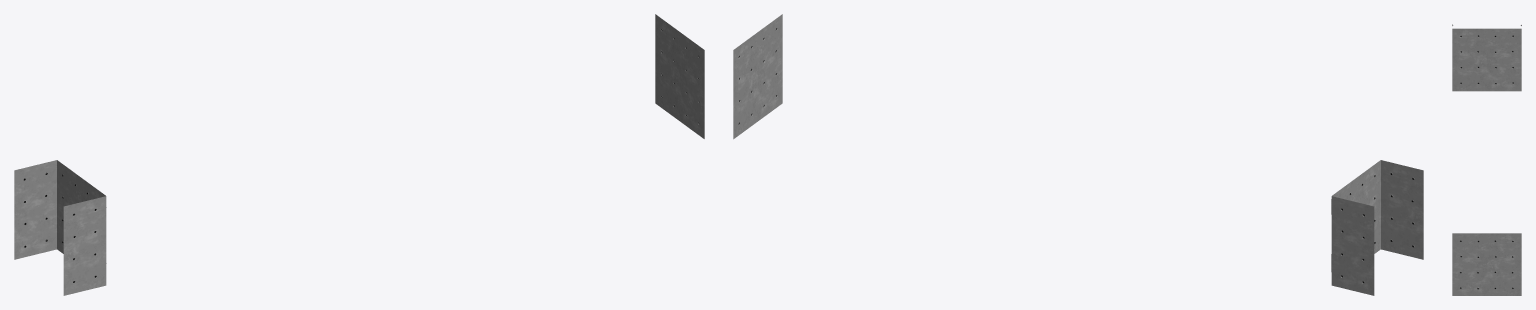
File: corridor_low.gltf
The picture shows the model from 3 angles, left to right: view 1: azimuth 30°, elevation 25°; view 2: azimuth 150°, elevation 25°; view 3: azimuth 270°, elevation 25°; orthographic projection. The views are drawn at different scales.
Parts seen in each view (by area): view 1: Cube, Cube.007; view 2: Cube, Cube.007; view 3: Cube, Cube.007.
Boxes of the visible parts, x1=… form: Cube: x1=14, y1=160, x2=106, y2=295; Cube.007: x1=655, y1=14, x2=704, y2=138; Cube: x1=1331, y1=160, x2=1423, y2=295; Cube.007: x1=733, y1=14, x2=782, y2=139; Cube: x1=1452, y1=24, x2=1521, y2=91; Cube.007: x1=1452, y1=233, x2=1521, y2=295.
Bounding box in the file's own units: 30.05 × 4 × 4.
1 material, 1 textured.
